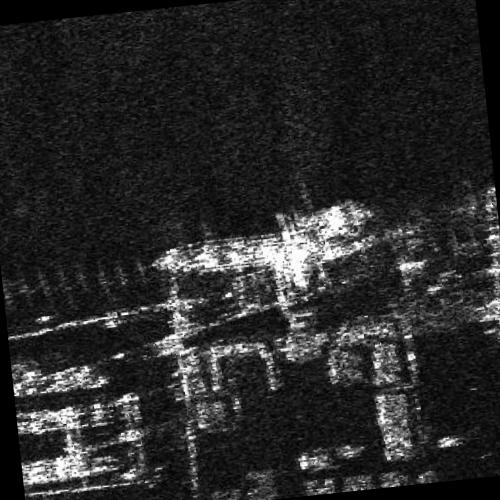ship: (150, 230, 318, 276)
